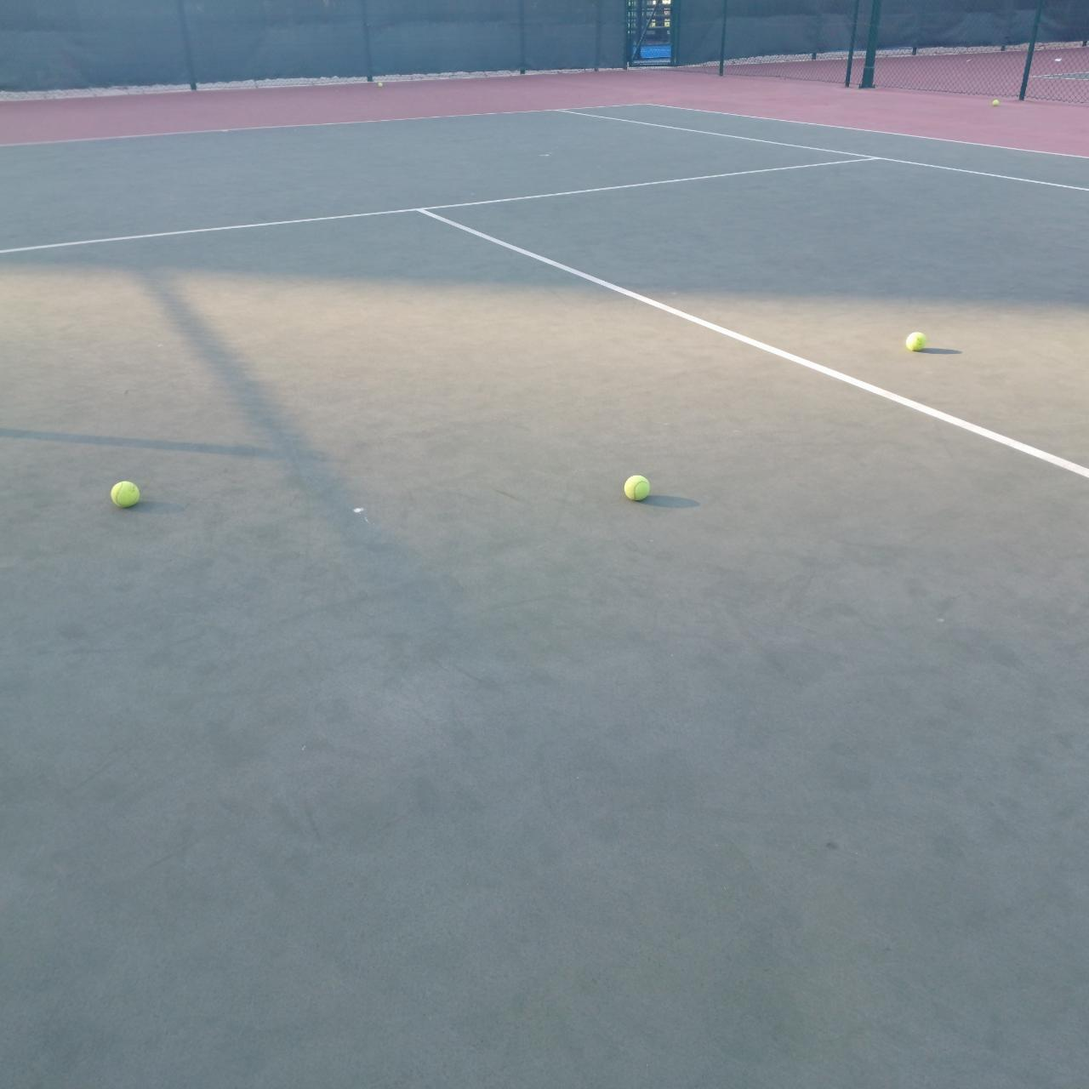tennis-ball: (108, 477, 140, 508), (621, 471, 651, 501), (904, 329, 926, 352), (993, 99, 999, 107), (377, 82, 383, 87)
